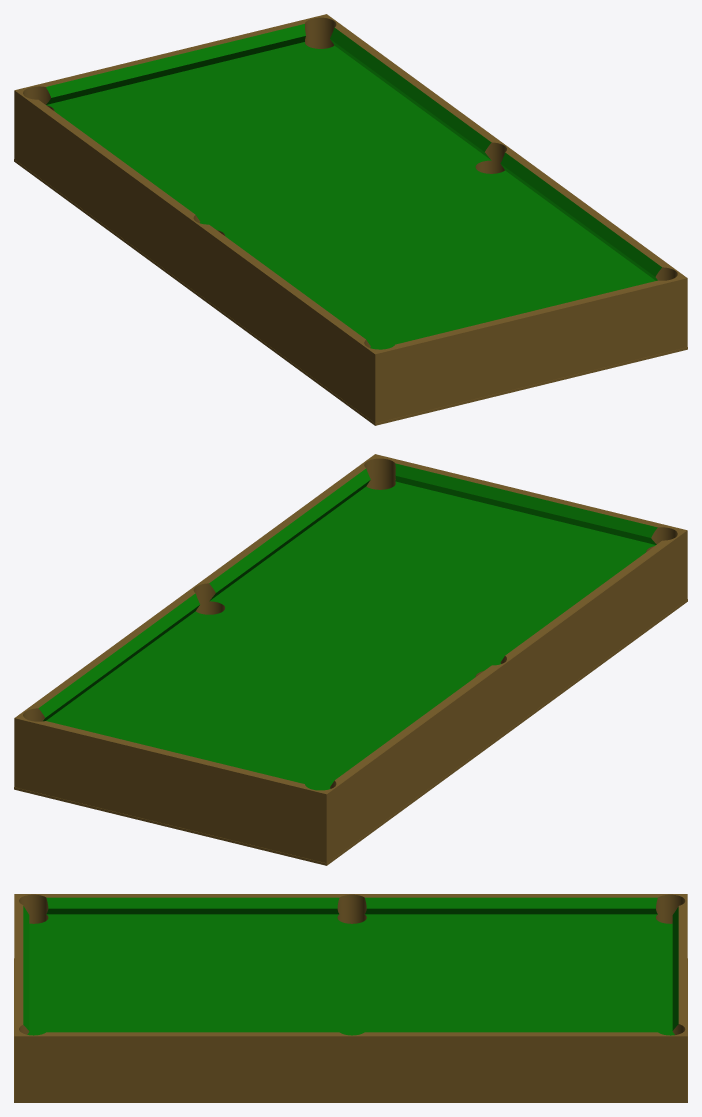
Rendered from table.glb.
3 renders of one model, top to bottom at view 1: azimuth 30°, elevation 25°; view 2: azimuth 150°, elevation 25°; view 3: azimuth 270°, elevation 25°, orthographic. The views are drawn at different scales.
Parts seen in each view (by area): view 1: Cube; view 2: Cube; view 3: Cube.
Part boxes in pixels (<box>): Cube: <box>14,14,687,425</box>; Cube: <box>14,454,687,865</box>; Cube: <box>14,894,687,1102</box>.
Size of the model in its own units: 1.37 by 0.3 by 2.74.
